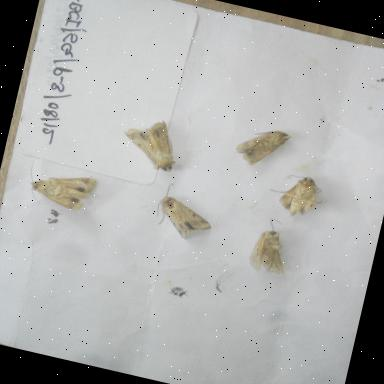abw: (110, 106, 194, 182), (15, 156, 106, 225), (144, 176, 226, 251), (259, 162, 341, 230), (223, 112, 300, 180), (237, 211, 302, 288)
